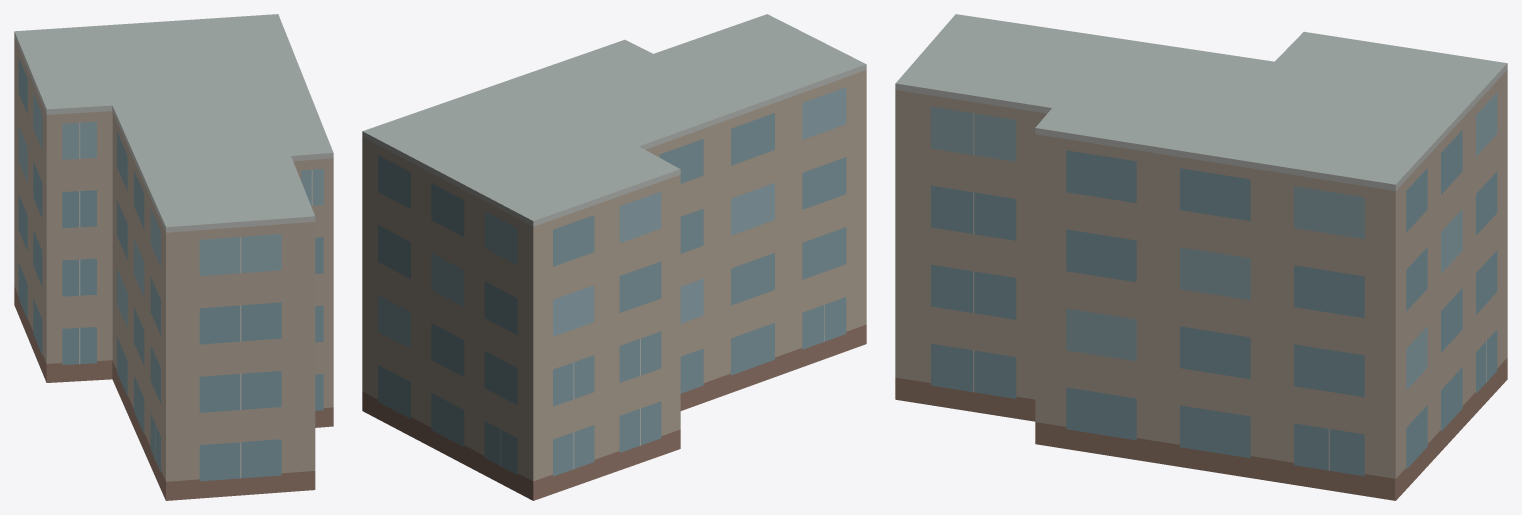
The model's file is survey-upis-32713116.glb.
3 renders of one model, left to right at view 1: azimuth 30°, elevation 25°; view 2: azimuth 150°, elevation 25°; view 3: azimuth 270°, elevation 25°, orthographic. The views are drawn at different scales.
Visible parts, largest first — view 1: survey-upis-32713116.tmp; view 2: survey-upis-32713116.tmp; view 3: survey-upis-32713116.tmp.
Part boxes in pixels (box(x1,y1,x2,y2)): survey-upis-32713116.tmp: box(14, 14, 333, 500); survey-upis-32713116.tmp: box(362, 14, 866, 500); survey-upis-32713116.tmp: box(895, 14, 1507, 500).
Size of the model in its own units: 14.13 by 12.2 by 21.41.
